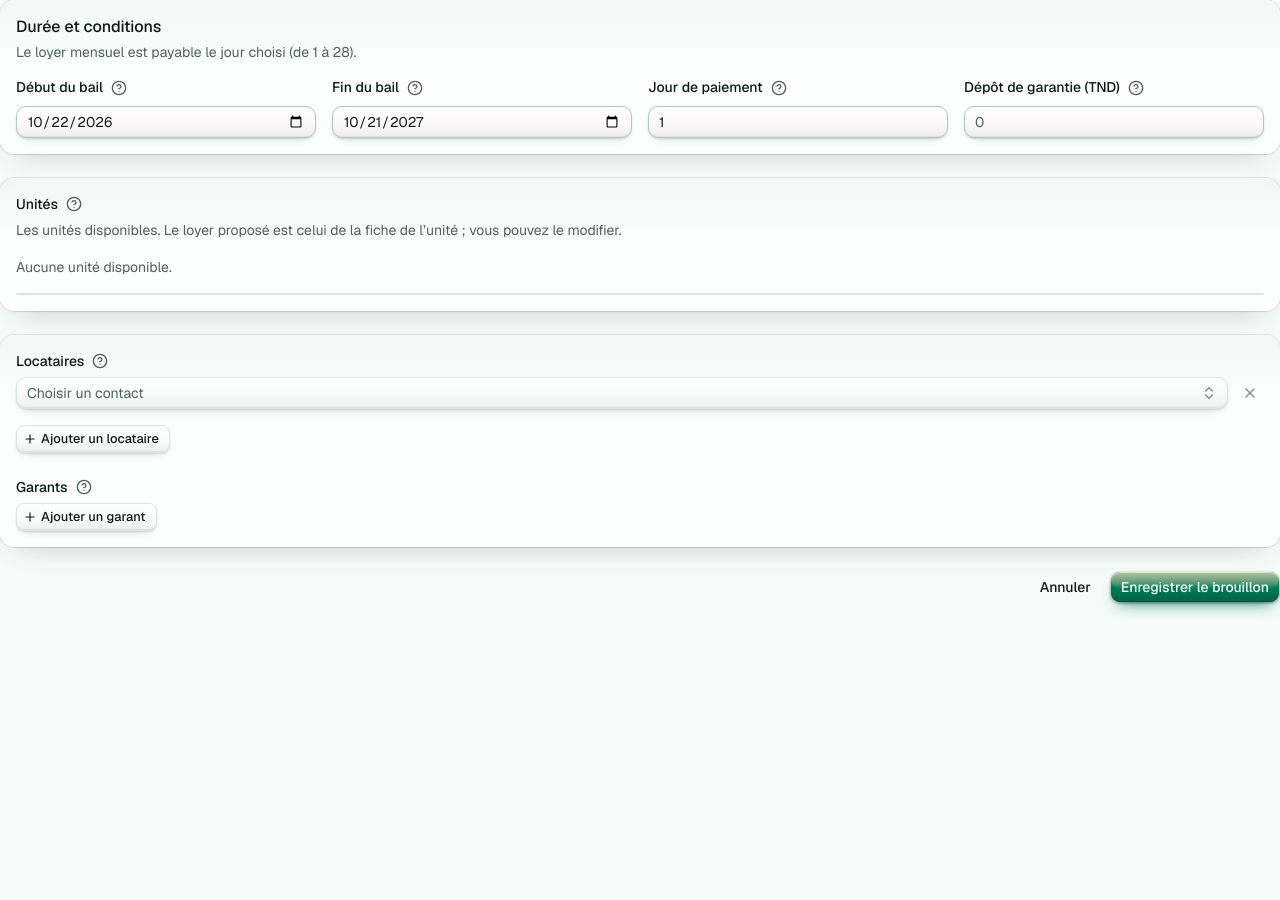
it: LeaseForm help icons › explains the start date when its help is opened
Click the button named "Aide" next to "Début du bail" at (119, 88), box [109,78,129,98]
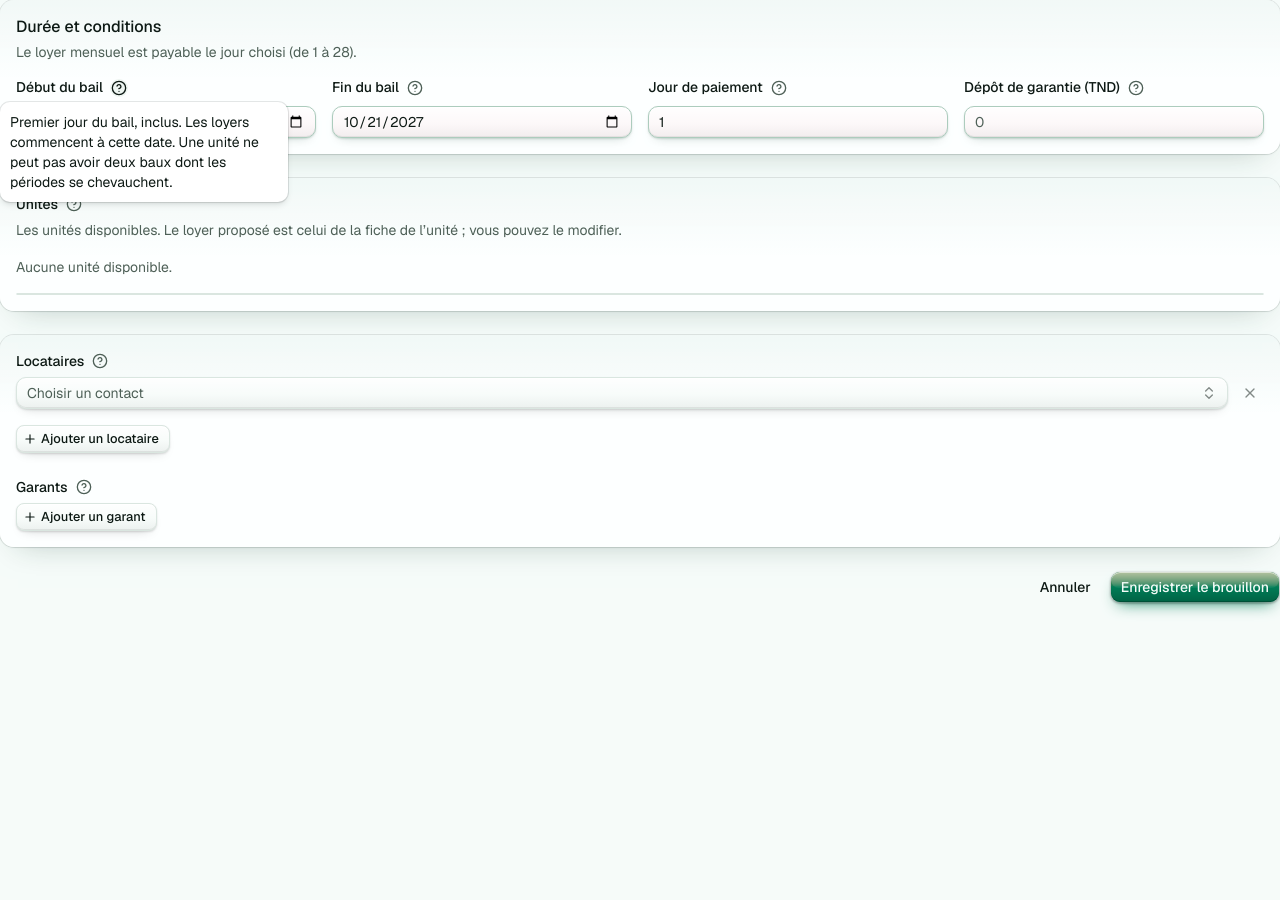
Expected: the text "Premier jour du bail, inclus" is shown, [10,113,259,191]
